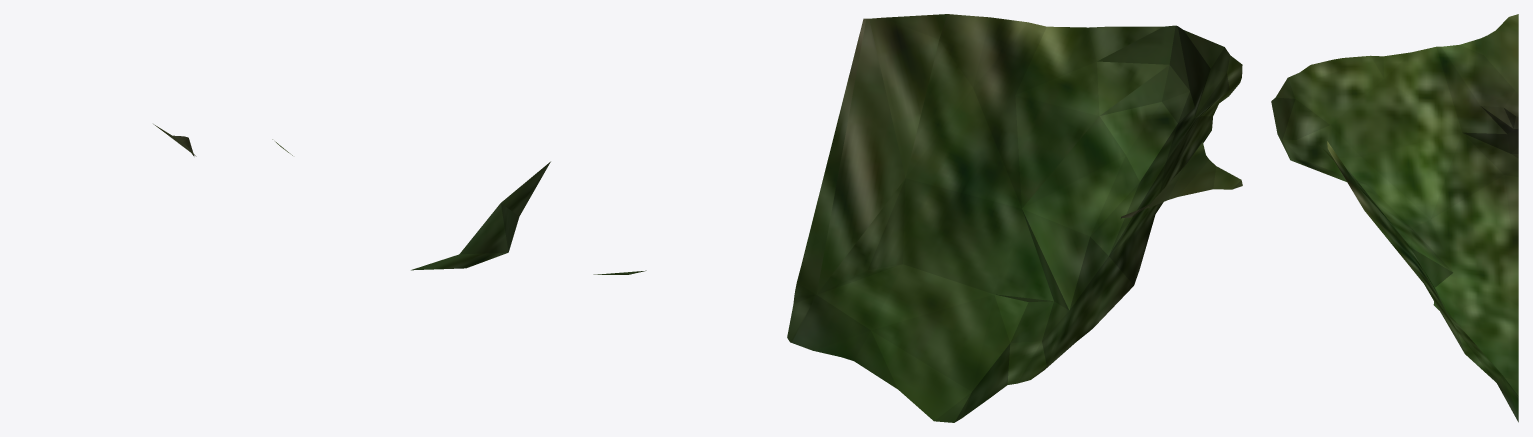
3 views of the same model, side by side, from view 1: azimuth 30°, elevation 25°; view 2: azimuth 150°, elevation 25°; view 3: azimuth 270°, elevation 25° (orthographic). The views are drawn at different scales.
Bounding box in the file's own units: 0.7915 × 0.5157 × 0.4439.
Materials: 1 (1 with a texture image).
